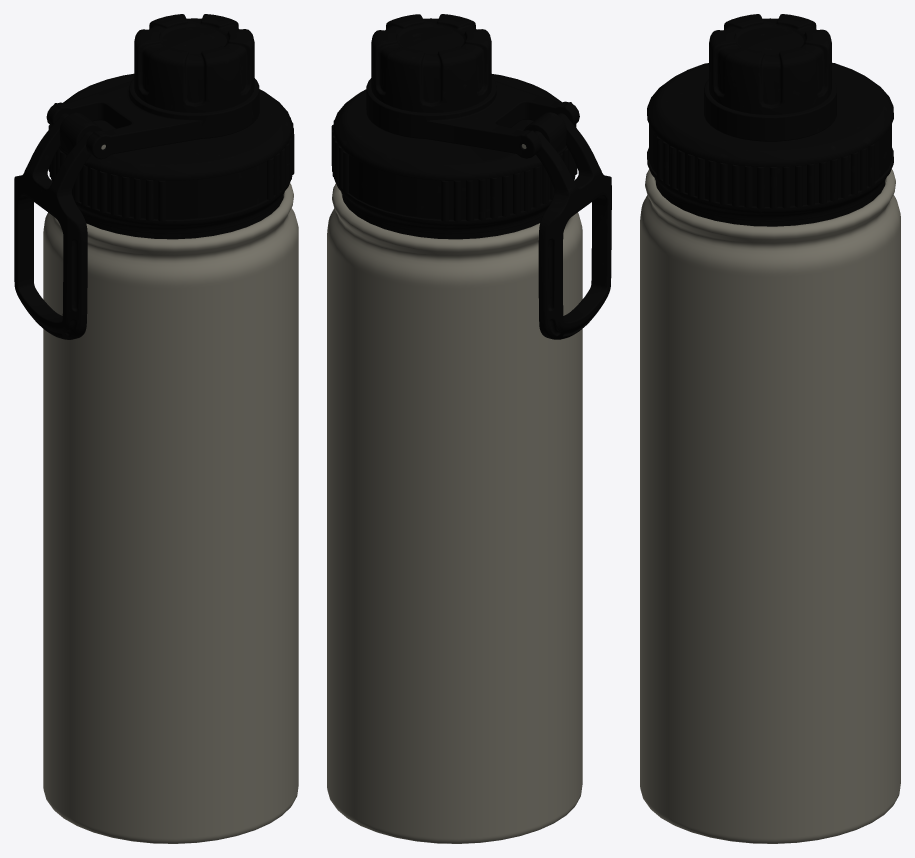
File: walrus.glb
3 renders of one model, left to right at view 1: azimuth 30°, elevation 25°; view 2: azimuth 150°, elevation 25°; view 3: azimuth 270°, elevation 25°, orthographic. The views are drawn at different scales.
Parts seen in each view (by area): view 1: Object001, Cylinder002; view 2: Object001, Cylinder002; view 3: Object001, Cylinder002.
Boxes of the visible parts, x1,y1,x2,y2 form: Object001: [43, 183, 298, 843]; Cylinder002: [14, 14, 294, 339]; Object001: [327, 183, 582, 843]; Cylinder002: [331, 14, 611, 339]; Object001: [640, 169, 900, 843]; Cylinder002: [647, 14, 893, 226].
Size of the model in its own units: 0.0845 by 0.2506 by 0.0774.
Materials: 3 (2 with a texture image).
